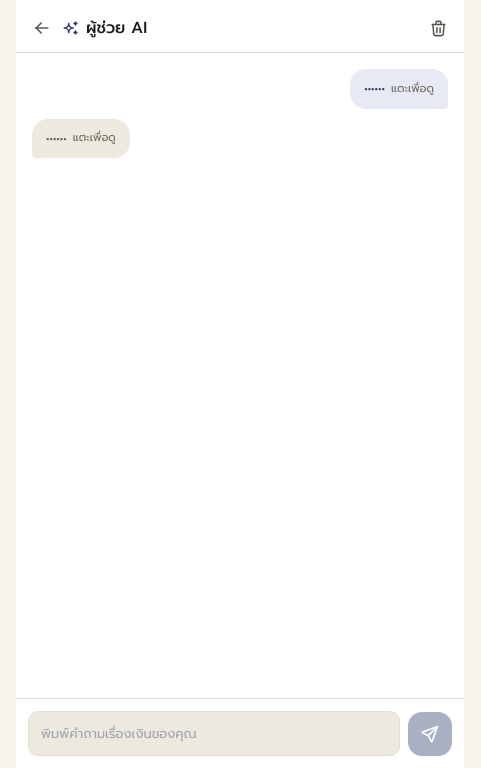
Scenario: hideBalance masks the RELOADED transcript, tap reveals, current round stays open › a tap reveals THAT bubble only, one at a time
What coordinates should you click on to do the following:
click the button with aria-label "แตะเพื่อแสดงข้อความที่ซ่อนไว้"
I would click on:
 (81, 138)
Its box is 32,118 -> 130,158.
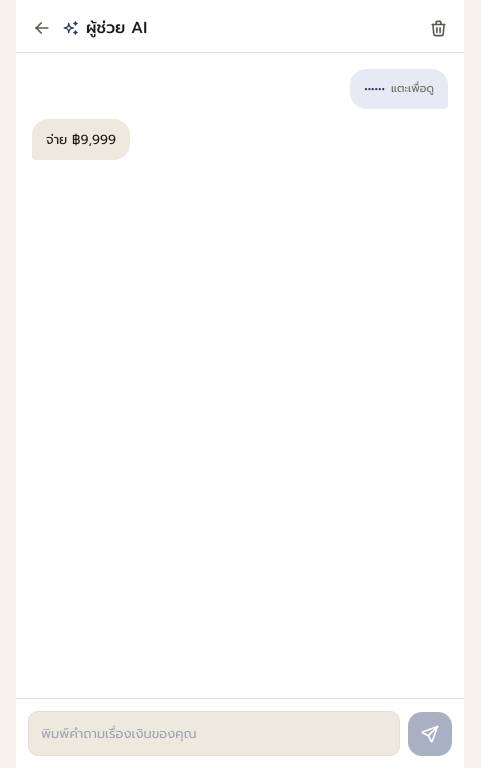
Check: the number of buttons named "แตะเพื่อแสดงข้อความที่ซ่อนไว้" is 1, box 350,69 -> 448,108
Check: the text "จ่าย ฿9,999" is shown, box 32,118 -> 130,160
